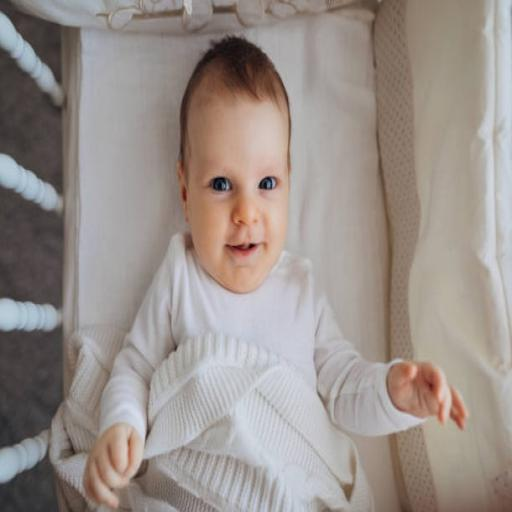baby: (84, 37, 467, 506)
crib: (16, 0, 511, 510)
